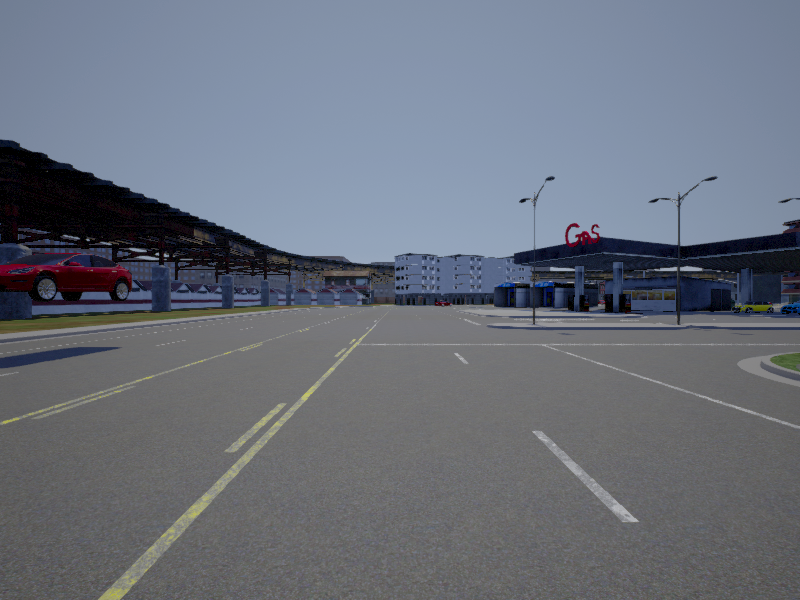Attacker: (1, 254, 132, 299)
